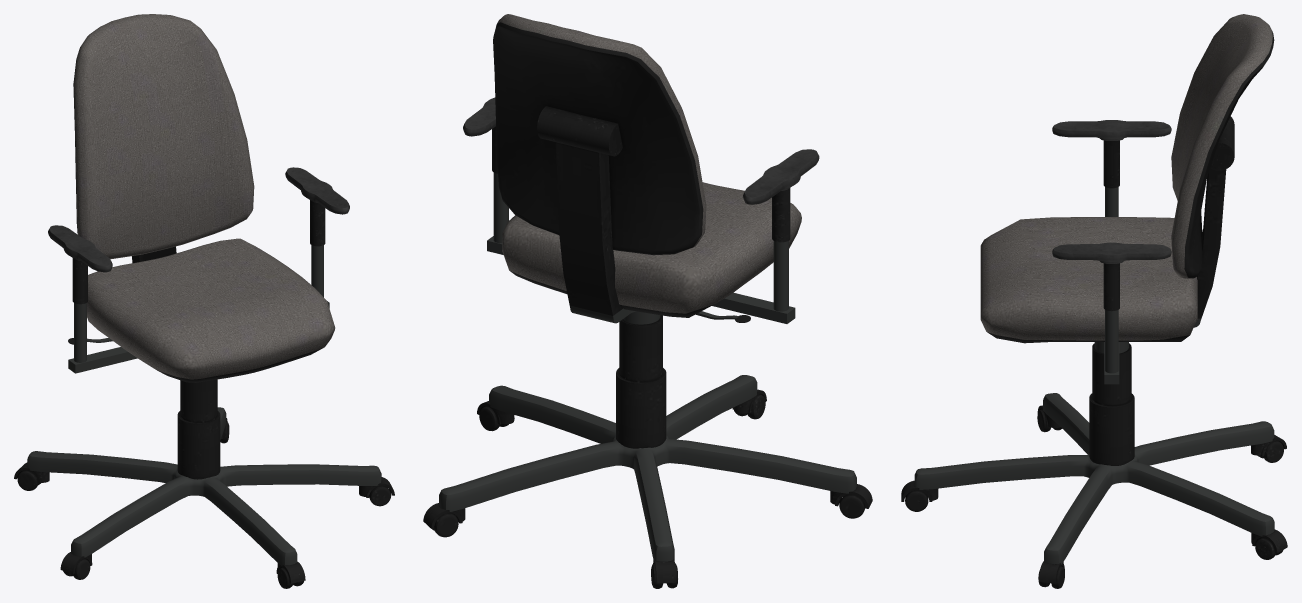
The model's file is office-chair.glb.
The picture shows the model from 3 angles, left to right: view 1: azimuth 30°, elevation 25°; view 2: azimuth 150°, elevation 25°; view 3: azimuth 270°, elevation 25°; orthographic projection. The views are drawn at different scales.
Visible parts, largest first — view 1: OfficeChair_OfficeChairCloth_0, OfficeChair_OfficeChairMetal_0, OfficeChair_OfficeChairPlastic_0, OfficeChair_OfficeChairLeather_0; view 2: OfficeChair_OfficeChairPlastic_0, OfficeChair_OfficeChairMetal_0, OfficeChair_OfficeChairCloth_0, OfficeChair_OfficeChairLeather_0; view 3: OfficeChair_OfficeChairCloth_0, OfficeChair_OfficeChairMetal_0, OfficeChair_OfficeChairPlastic_0, OfficeChair_OfficeChairLeather_0.
Boxes of the visible parts, x1=… form: OfficeChair_OfficeChairCloth_0: x1=73, y1=14, x2=335, y2=379; OfficeChair_OfficeChairMetal_0: x1=27, y1=245, x2=381, y2=566; OfficeChair_OfficeChairPlastic_0: x1=14, y1=54, x2=394, y2=588; OfficeChair_OfficeChairLeather_0: x1=48, y1=167, x2=349, y2=272; OfficeChair_OfficeChairPlastic_0: x1=423, y1=22, x2=872, y2=588; OfficeChair_OfficeChairMetal_0: x1=439, y1=172, x2=856, y2=561; OfficeChair_OfficeChairCloth_0: x1=497, y1=14, x2=801, y2=313; OfficeChair_OfficeChairLeather_0: x1=463, y1=97, x2=819, y2=204; OfficeChair_OfficeChairCloth_0: x1=980, y1=14, x2=1272, y2=340; OfficeChair_OfficeChairMetal_0: x1=914, y1=187, x2=1274, y2=564; OfficeChair_OfficeChairPlastic_0: x1=901, y1=31, x2=1287, y2=588; OfficeChair_OfficeChairLeather_0: x1=1052, y1=120, x2=1171, y2=263.
Bounding box in the file's own units: 97.3 × 126 × 92.63.
4 materials, 3 textured.
